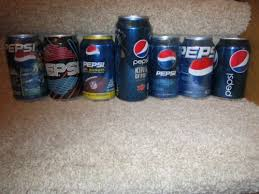can: (117, 9, 152, 108), (4, 28, 43, 105), (44, 34, 83, 108), (216, 36, 251, 107), (81, 36, 114, 108), (151, 35, 177, 103), (183, 38, 210, 103)
